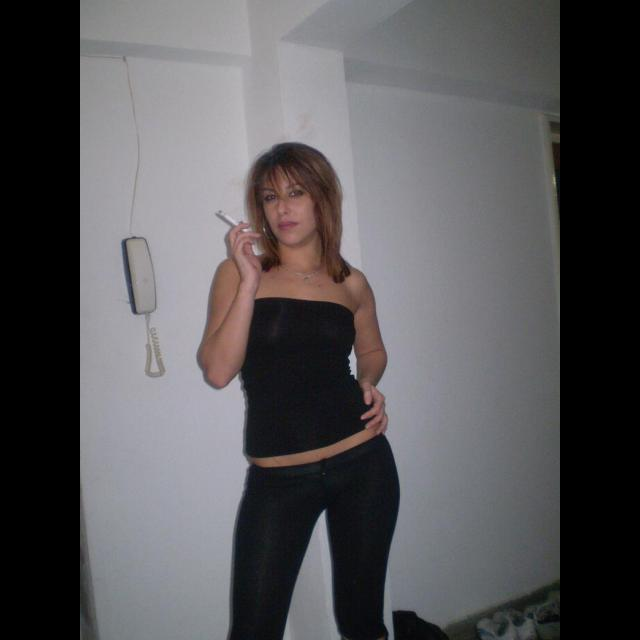rokok: (212, 207, 252, 231)
